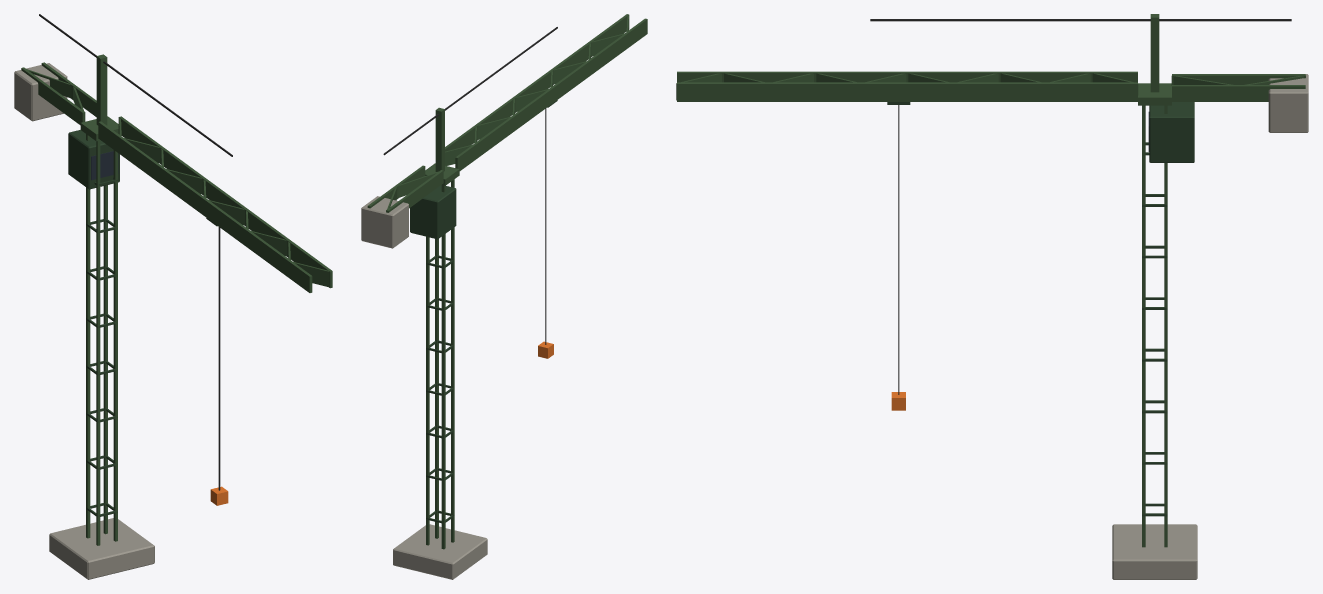
File: con_crane.glb
3 renders of one model, left to right at view 1: azimuth 30°, elevation 25°; view 2: azimuth 150°, elevation 25°; view 3: azimuth 270°, elevation 25°, orthographic. The views are drawn at different scales.
Parts seen in each view (by area): view 1: con_crane; view 2: con_crane; view 3: con_crane.
Boxes of the visible parts, <box> form: con_crane: <box>14,14,332,579</box>; con_crane: <box>361,14,647,579</box>; con_crane: <box>676,14,1308,579</box>.
Size of the model in its own units: 3 by 21.2 by 22.22.
